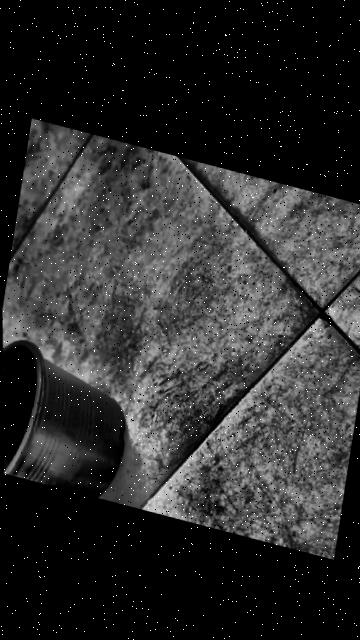pot: (2, 333, 136, 505)
